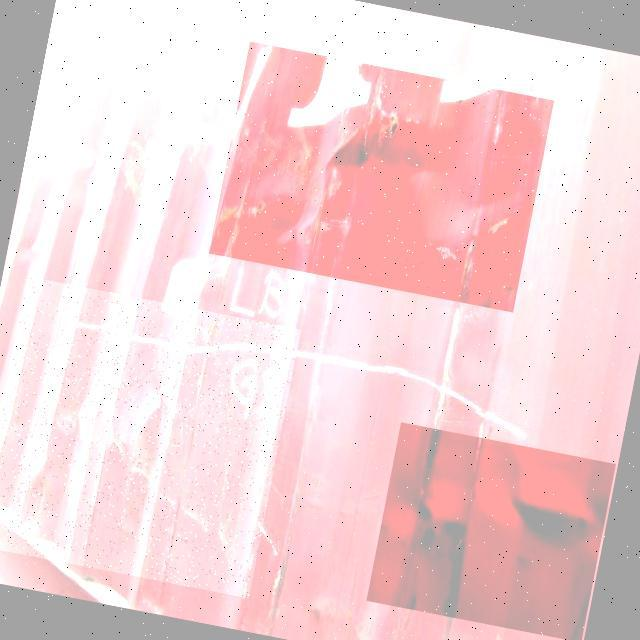Dent: (0, 276, 300, 598), (209, 42, 555, 313)
Minor-Dent: (366, 423, 616, 640)
